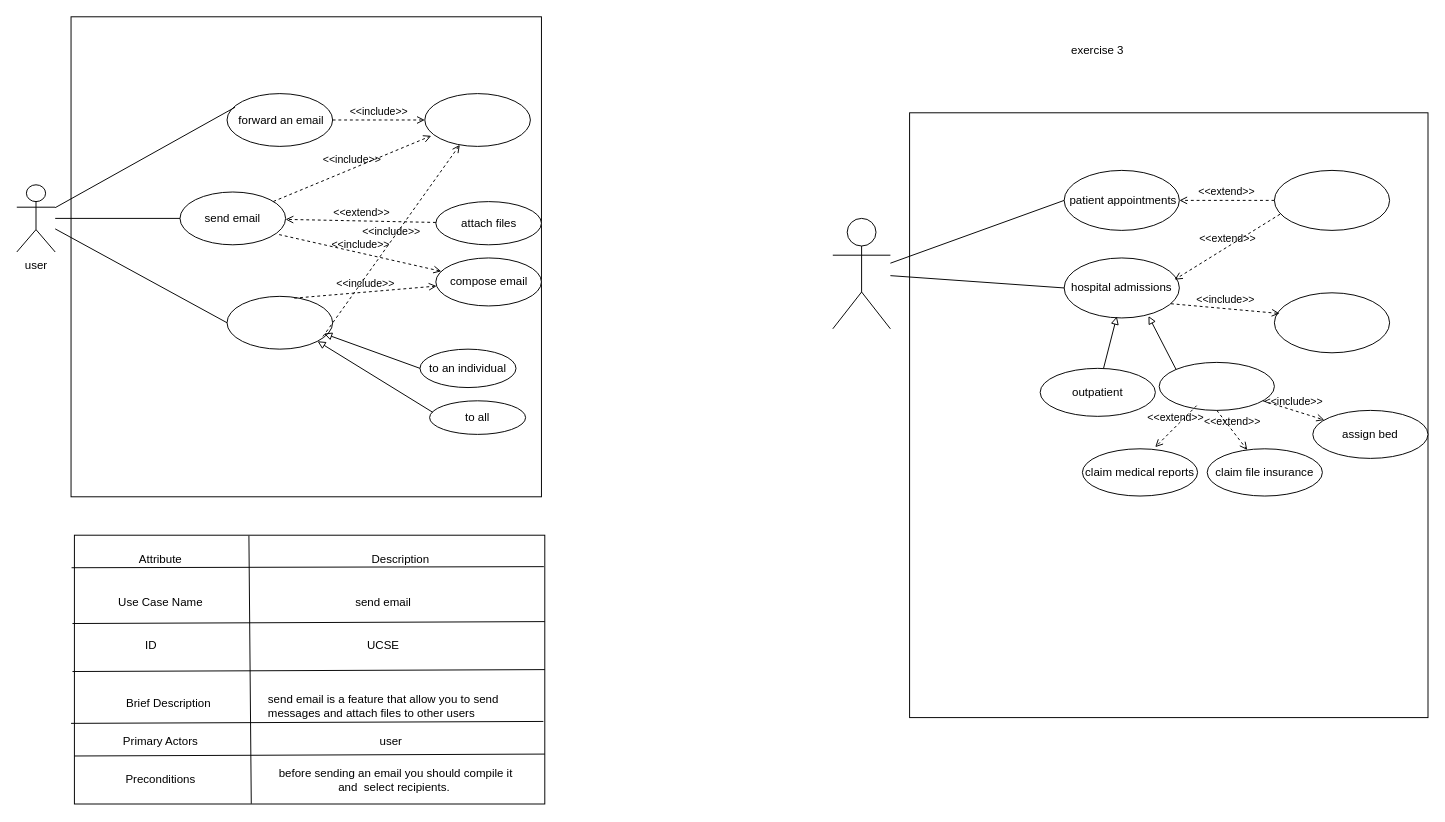
The diagram is 1445 pixels wide and 822 high, and some of its shapes have lost their labels. The shapes that lost their labels are listed below. From the top down, each one's centre as x and y in pixels, then its label:
At pixel 477 119: "select recipients".
At pixel 1331 199: "collect patient information".
At pixel 861 273: "receptionist".
At pixel 279 322: "reply to an email".
At pixel 1331 322: "patient registration".
At pixel 1216 385: "inpatient".
